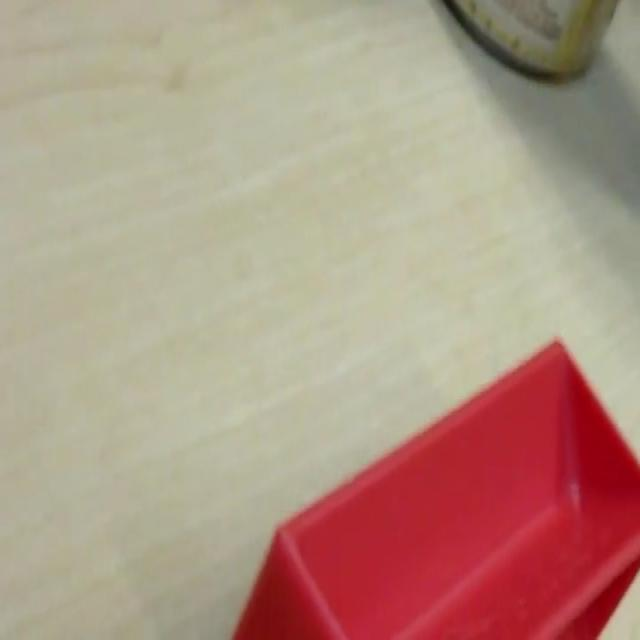red_block: (231, 333, 638, 638)
